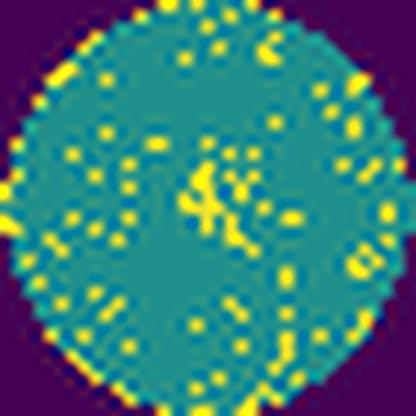Center: (176, 156, 261, 257)
